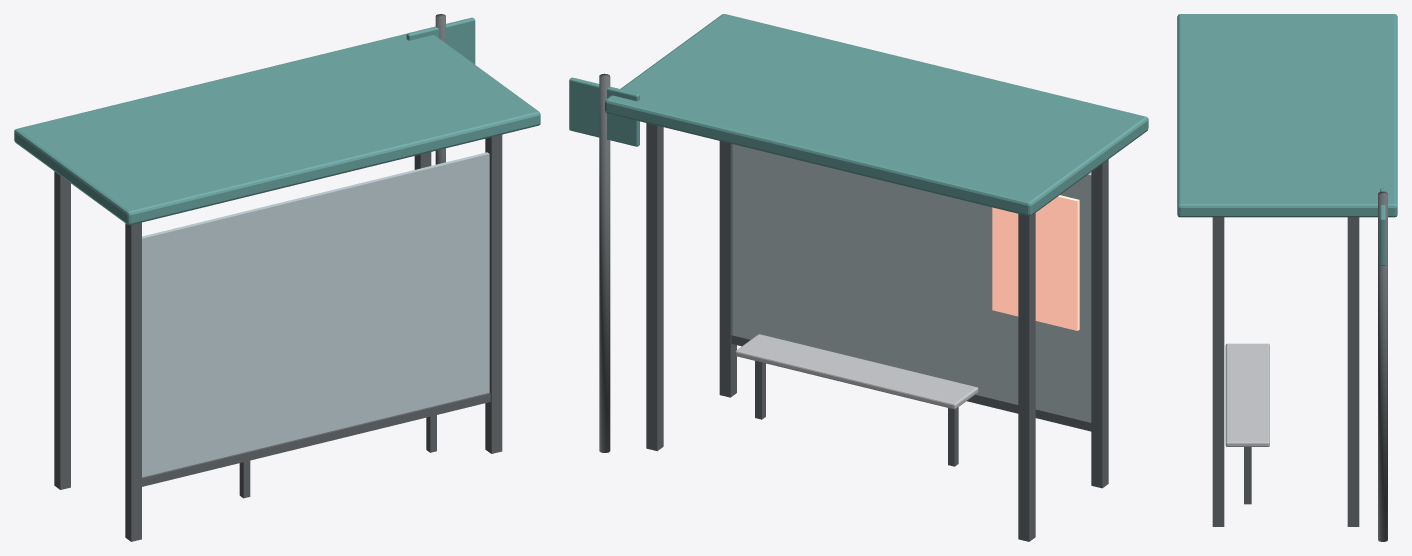
File: bus_stop.glb
3 views of the same model, side by side, from view 1: azimuth 30°, elevation 25°; view 2: azimuth 150°, elevation 25°; view 3: azimuth 270°, elevation 25° (orthographic). The views are drawn at different scales.
Parts seen in each view (by area): view 1: bus_stop; view 2: bus_stop; view 3: bus_stop.
Part boxes in pixels (bbox=[...]): bus_stop: bbox=[14, 14, 540, 541]; bus_stop: bbox=[569, 14, 1148, 541]; bus_stop: bbox=[1177, 14, 1397, 541].
Size of the model in its own units: 3.4 by 2.6 by 1.5.
